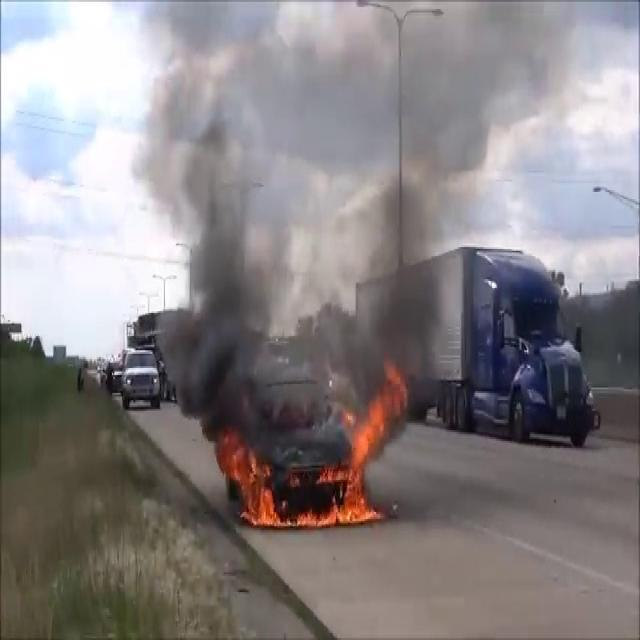Fire: (218, 383, 404, 531), (217, 426, 279, 530)
Smoke: (322, 1, 574, 392), (137, 3, 298, 417)
